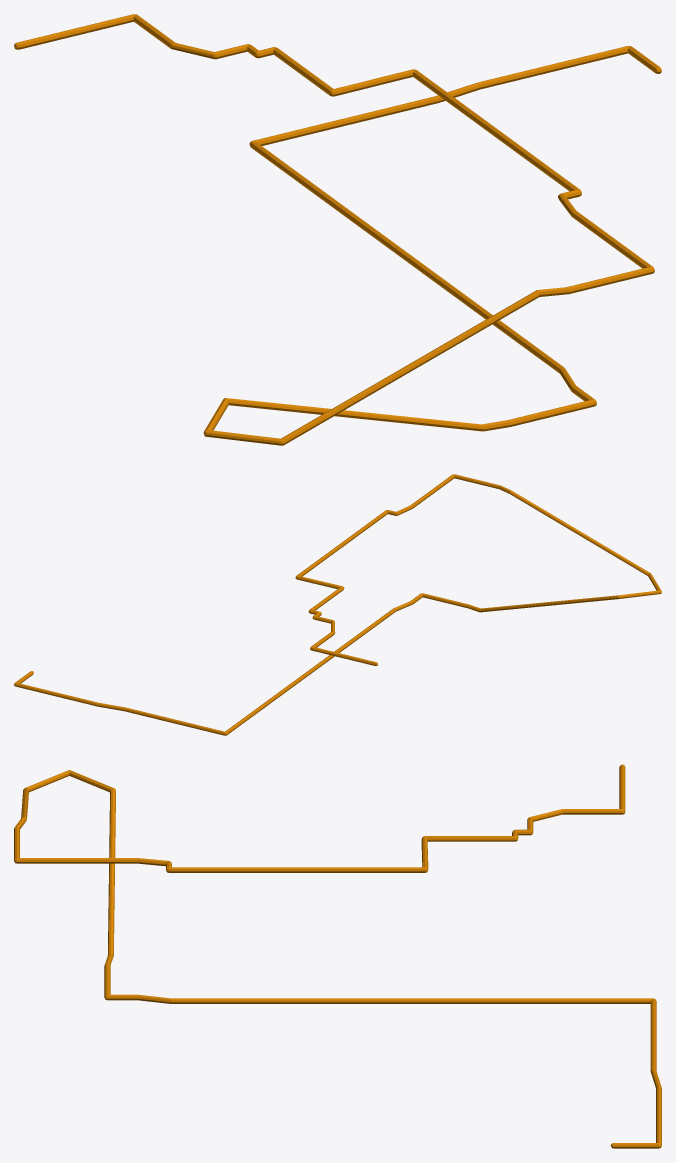
The picture shows the model from 3 angles, top to bottom: view 1: azimuth 30°, elevation 25°; view 2: azimuth 150°, elevation 25°; view 3: azimuth 270°, elevation 25°; orthographic projection. The views are drawn at different scales.
Bounding box in the file's own units: 2409 × 520 × 2149.
